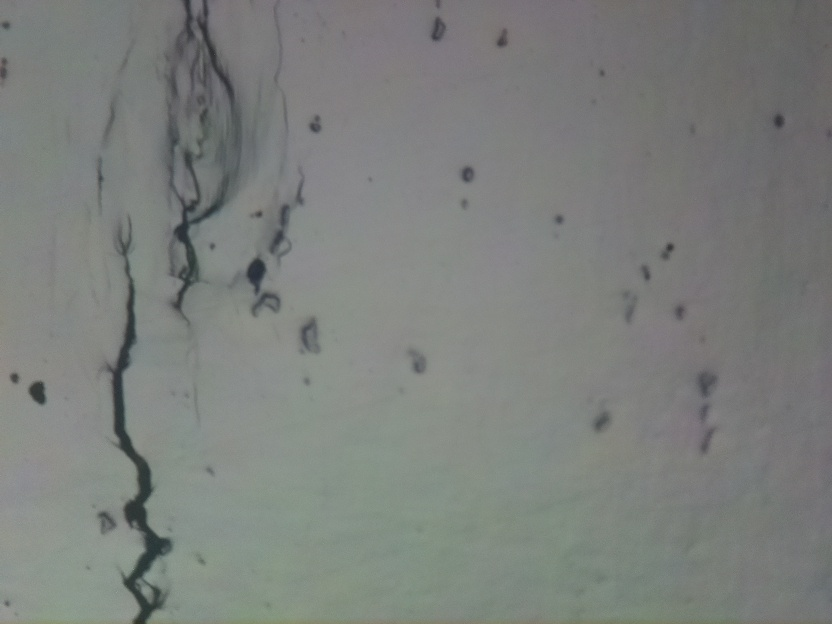crack: (84, 222, 177, 624), (170, 168, 223, 319), (200, 0, 242, 106), (169, 0, 205, 50)
